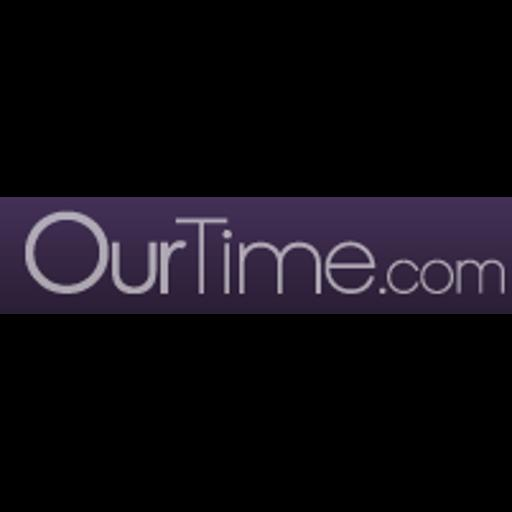OurTime Dating: (0, 197, 512, 314)
